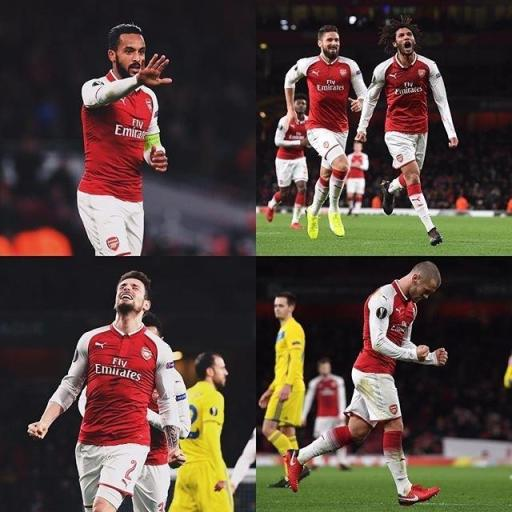Emirates: (91, 357, 145, 383), (114, 116, 148, 143), (315, 78, 346, 94), (394, 81, 424, 96)
